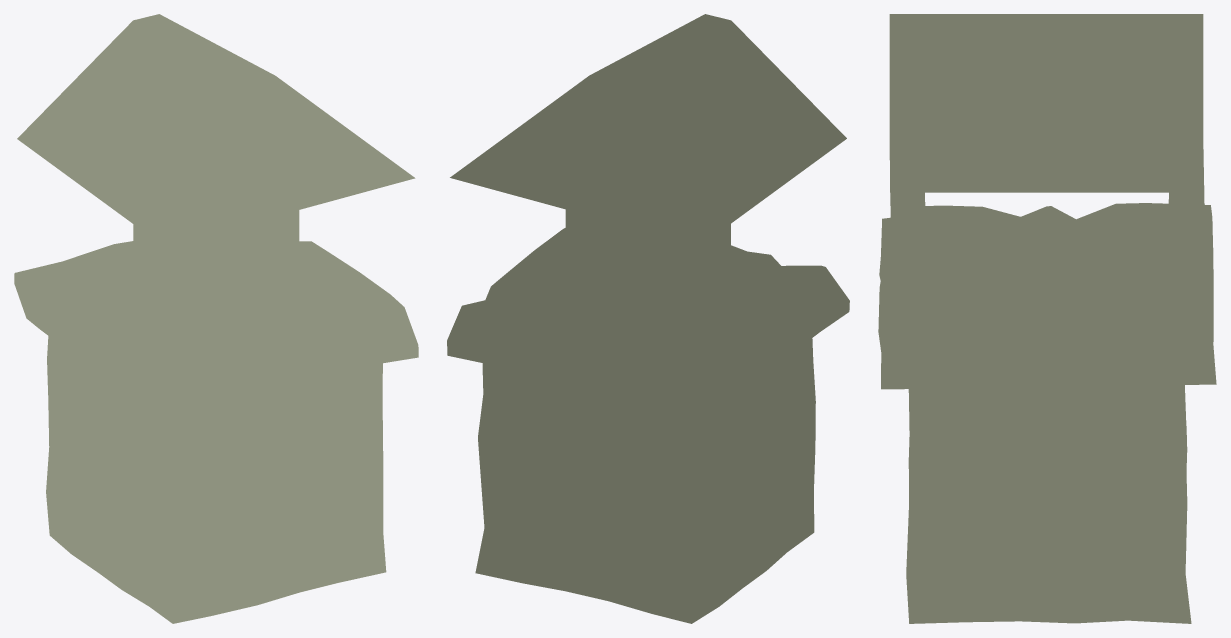
Rendered from wellwellwell.dae.
3 renders of one model, left to right at view 1: azimuth 30°, elevation 25°; view 2: azimuth 150°, elevation 25°; view 3: azimuth 270°, elevation 25°, orthographic. The views are drawn at different scales.
Visible parts, largest first — view 1: cube2-0; view 2: cube2-0; view 3: cube2-0.
Boxes of the visible parts, left/top/right/bottom form: cube2-0: left=14, top=14, right=418, bottom=623; cube2-0: left=447, top=14, right=849, bottom=623; cube2-0: left=878, top=14, right=1216, bottom=623.
Size of the model in its own units: 123 by 220 by 124.
